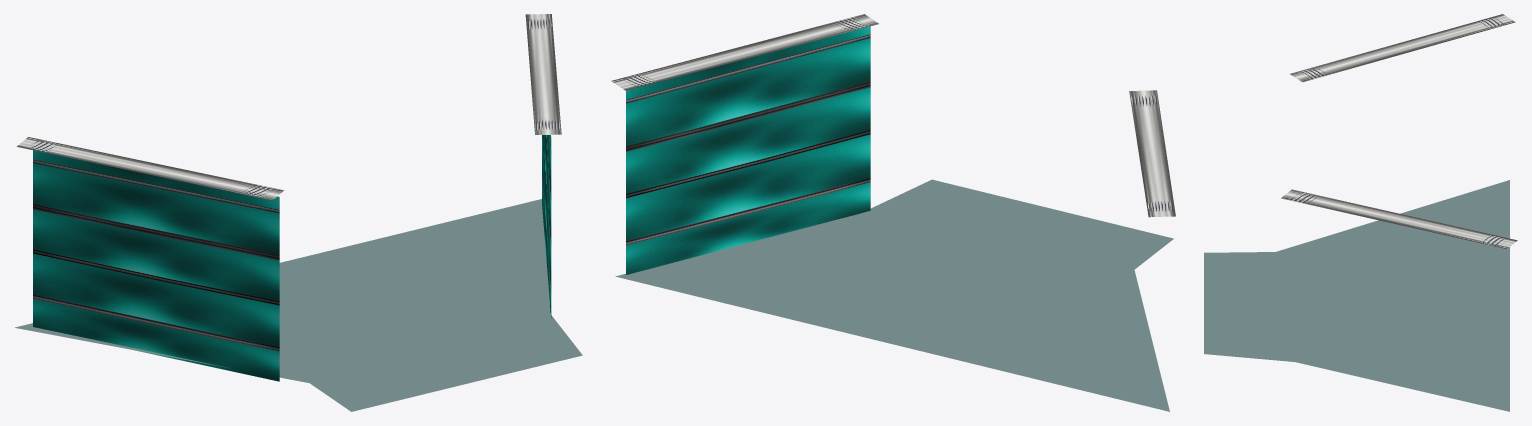
Rendered from min_treppen_boden_2813.glb.
3 renders of one model, left to right at view 1: azimuth 30°, elevation 25°; view 2: azimuth 150°, elevation 25°; view 3: azimuth 270°, elevation 25°, orthographic. The views are drawn at different scales.
Parts seen in each view (by area): view 1: pPlaneShape68, polySurfaceShape1206, polySurfaceShape1207, pPlaneShape69, pPlaneShape71, pPlaneShape70; view 2: polySurfaceShape1206, pPlaneShape70, polySurfaceShape1207, pPlaneShape71, pPlaneShape69; view 3: polySurfaceShape1206, polySurfaceShape1207, pPlaneShape71, pPlaneShape69.
Part boxes in pixels (x1,y1,x2,y2): pPlaneShape68: [33, 150, 279, 381]; polySurfaceShape1206: [15, 199, 550, 382]; polySurfaceShape1207: [310, 314, 582, 411]; pPlaneShape69: [17, 137, 283, 200]; pPlaneShape71: [525, 14, 561, 134]; pPlaneShape70: [542, 135, 551, 317]; polySurfaceShape1206: [615, 214, 1169, 411]; pPlaneShape70: [626, 26, 870, 274]; polySurfaceShape1207: [860, 179, 1173, 269]; pPlaneShape71: [611, 14, 878, 90]; pPlaneShape69: [1129, 90, 1175, 217]; polySurfaceShape1206: [1275, 180, 1509, 411]; polySurfaceShape1207: [1204, 252, 1294, 361]; pPlaneShape71: [1281, 189, 1517, 248]; pPlaneShape69: [1290, 14, 1515, 82].
Bounding box in the file's own units: 0.4757 × 0.1585 × 0.2684.
Materials: 6 (4 with a texture image).
